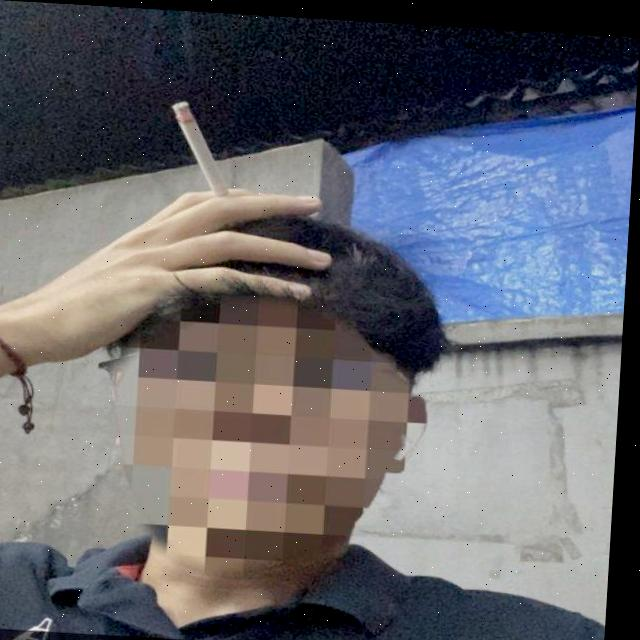cigarette: (169, 100, 235, 193)
